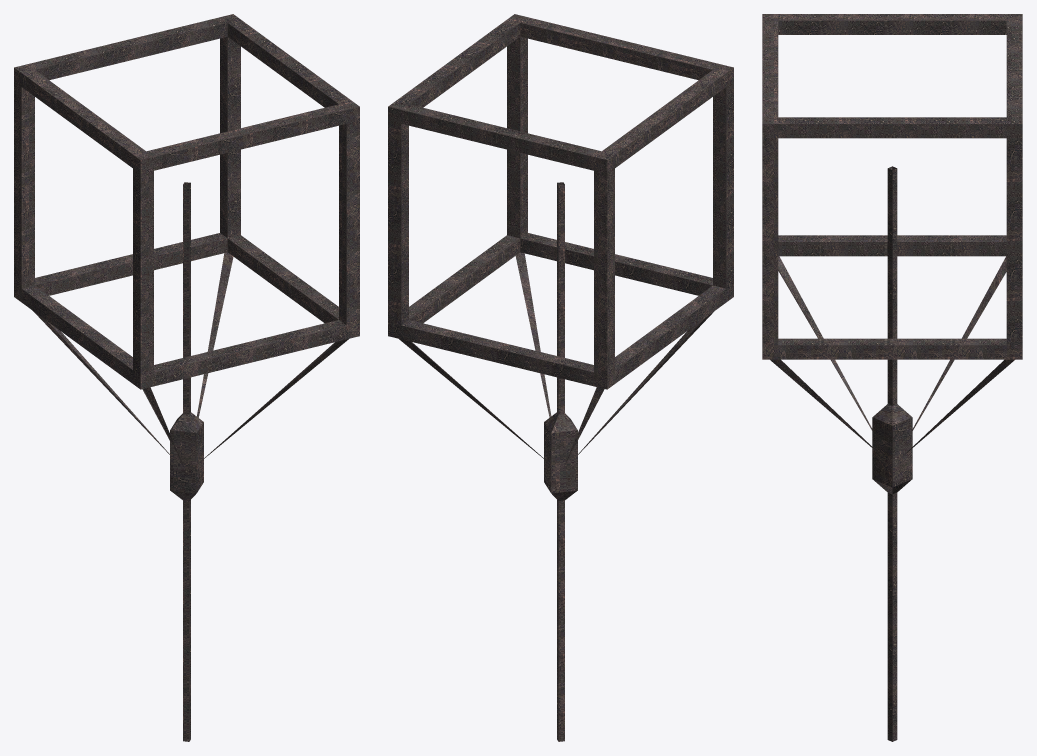
Rendered from pandora_box_int.fbx.
The picture shows the model from 3 angles, left to right: view 1: azimuth 30°, elevation 25°; view 2: azimuth 150°, elevation 25°; view 3: azimuth 270°, elevation 25°; orthographic projection. The views are drawn at different scales.
Parts seen in each view (by area): view 1: mesh_0; view 2: mesh_0; view 3: mesh_0.
Part boxes in pixels (x1,y1,x2,y2): mesh_0: (14, 14, 359, 741); mesh_0: (388, 14, 733, 741); mesh_0: (762, 14, 1022, 741).
Size of the model in its own units: 188 by 536 by 188.
1 material, 1 textured.
